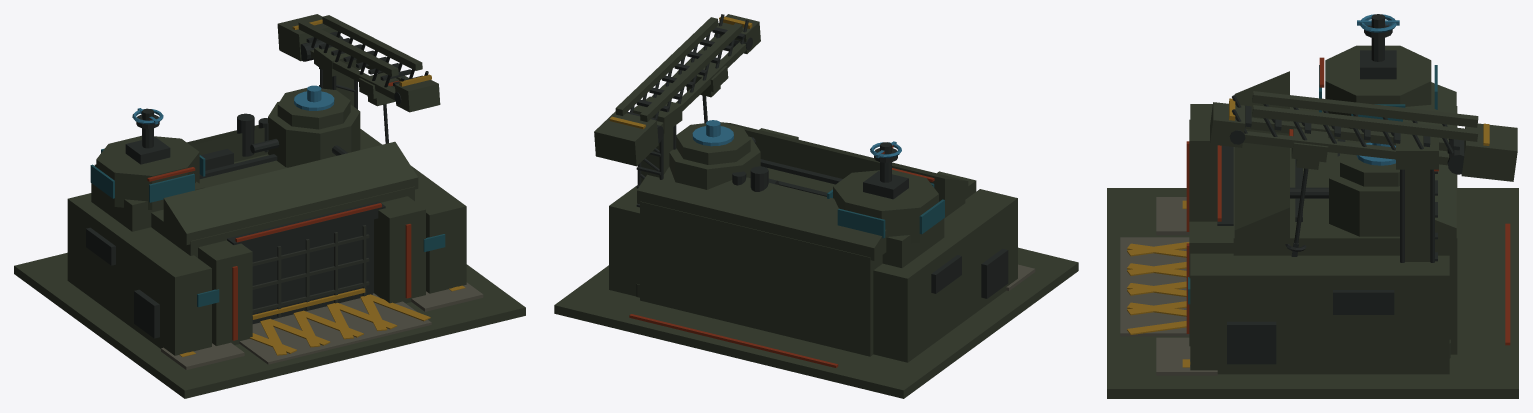
File: Bastion_FabricationHub_Static.glb
3 views of the same model, side by side, from view 1: azimuth 30°, elevation 25°; view 2: azimuth 150°, elevation 25°; view 3: azimuth 270°, elevation 25° (orthographic). The views are drawn at different scales.
Parts seen in each view (by area): view 1: world; view 2: world; view 3: world.
Part boxes in pixels (bbox=[...]): world: bbox=[14, 14, 525, 398]; world: bbox=[554, 14, 1078, 398]; world: bbox=[1107, 14, 1518, 398].
Size of the model in its own units: 12 by 7.38 by 10.4.
Materials: 1 (1 with a texture image).
